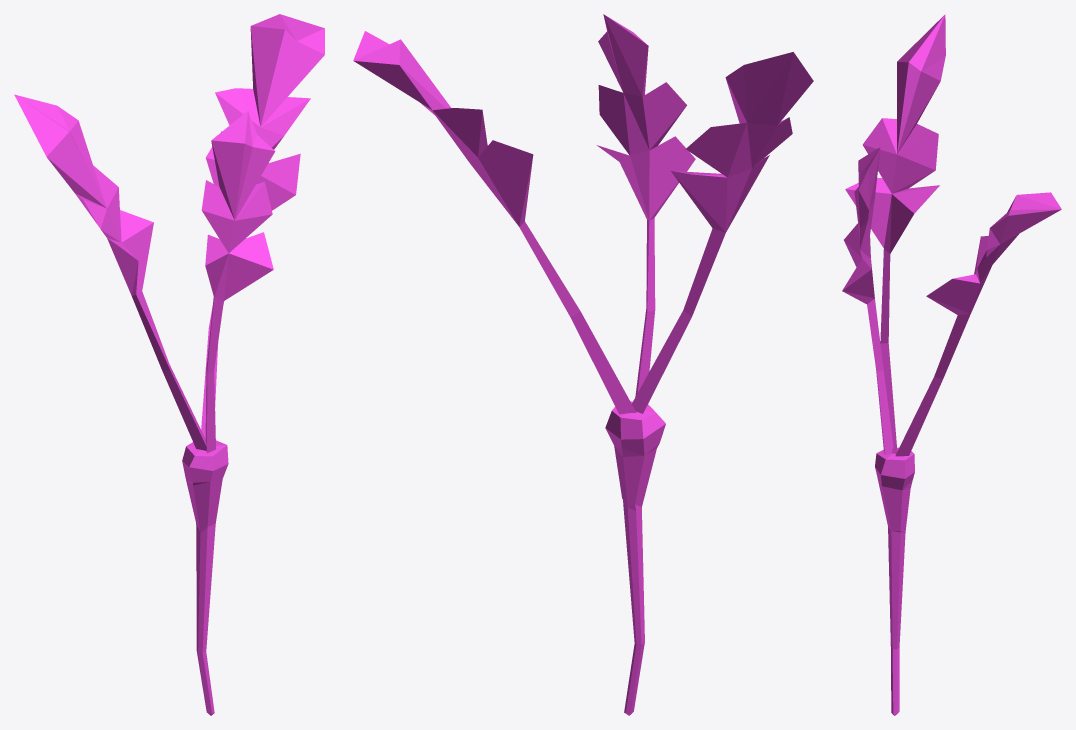
File: SM_Parsnip_Plant_Sapling_Root.fbx
3 renders of one model, left to right at view 1: azimuth 30°, elevation 25°; view 2: azimuth 150°, elevation 25°; view 3: azimuth 270°, elevation 25°, orthographic. The views are drawn at different scales.
Visible parts, largest first — view 1: SM_Parsnip_Plant_Sapling_Root; view 2: SM_Parsnip_Plant_Sapling_Root; view 3: SM_Parsnip_Plant_Sapling_Root.
Part boxes in pixels (x1=…): SM_Parsnip_Plant_Sapling_Root: x1=14, y1=14, x2=324, y2=715; SM_Parsnip_Plant_Sapling_Root: x1=353, y1=14, x2=813, y2=715; SM_Parsnip_Plant_Sapling_Root: x1=842, y1=14, x2=1061, y2=715.
Bounding box in the file's own units: 0.185 × 0.3314 × 0.1063.
